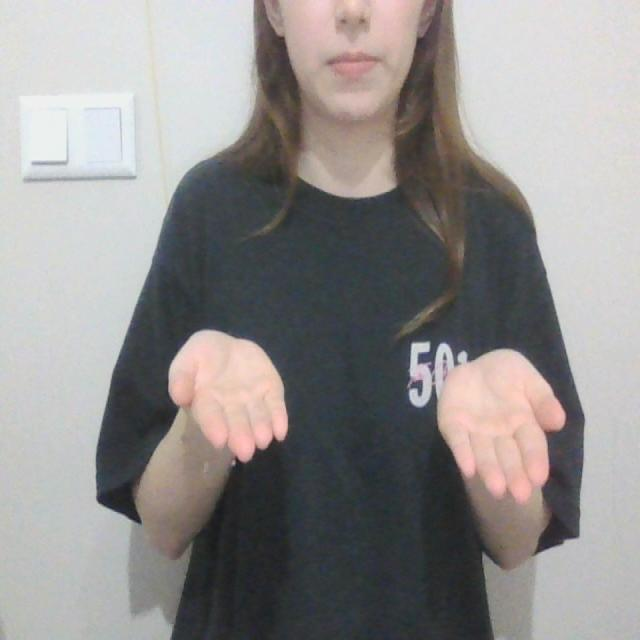Evet: (164, 321, 568, 520)
